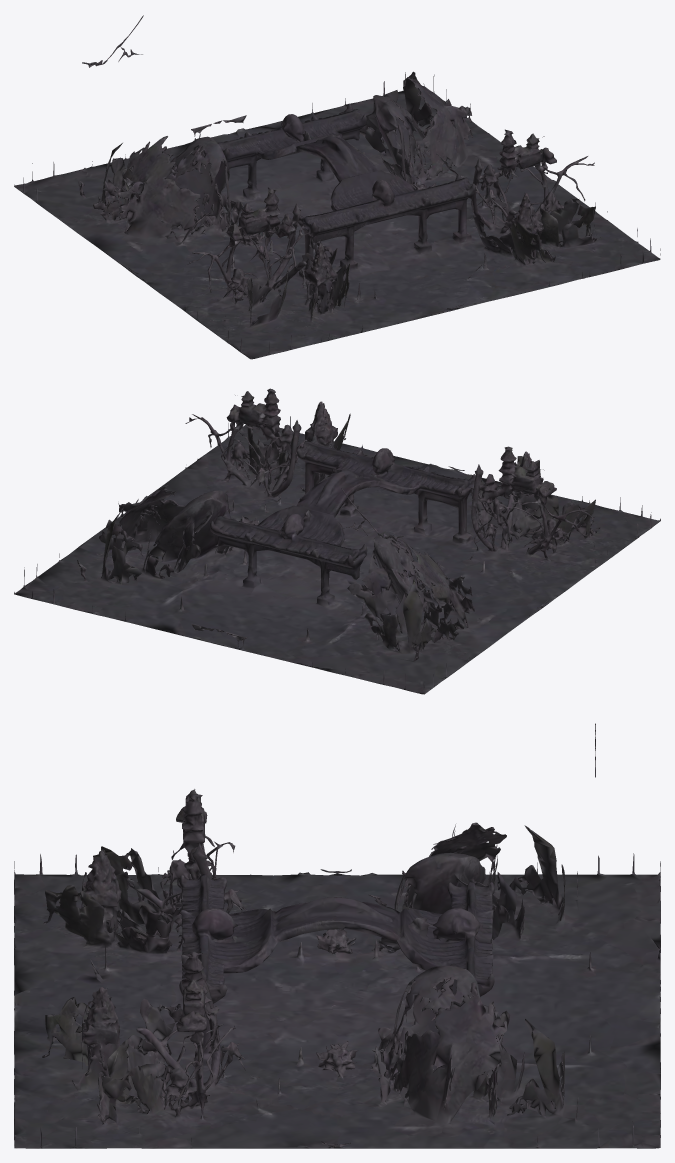
The model's file is citadel.glb.
3 renders of one model, top to bottom at view 1: azimuth 30°, elevation 25°; view 2: azimuth 150°, elevation 25°; view 3: azimuth 270°, elevation 25°, orthographic. The views are drawn at different scales.
Size of the model in its own units: 1.9 by 0.7668 by 1.9.
Materials: 1 (1 with a texture image).
